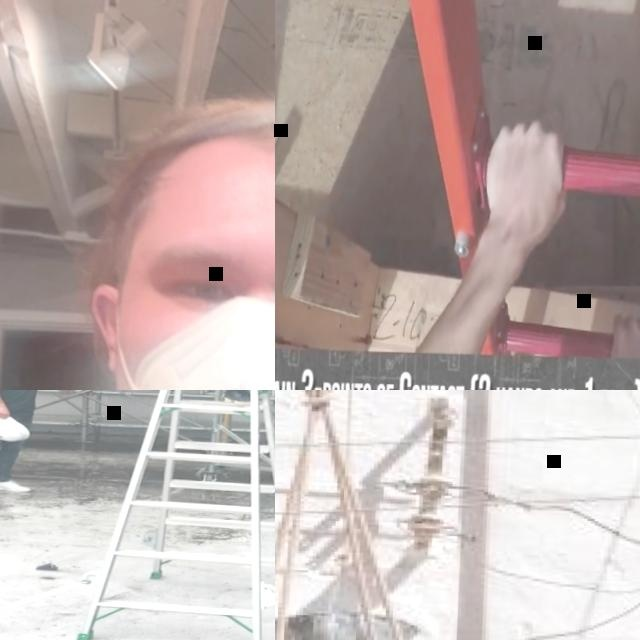Hardhat: (0, 415, 33, 446)
Mask: (104, 294, 275, 390)
NO-Hardhat: (109, 95, 275, 256)
NO-Safety Vest: (0, 390, 38, 421)
Person: (0, 86, 275, 390), (416, 117, 569, 356), (0, 390, 79, 497)
